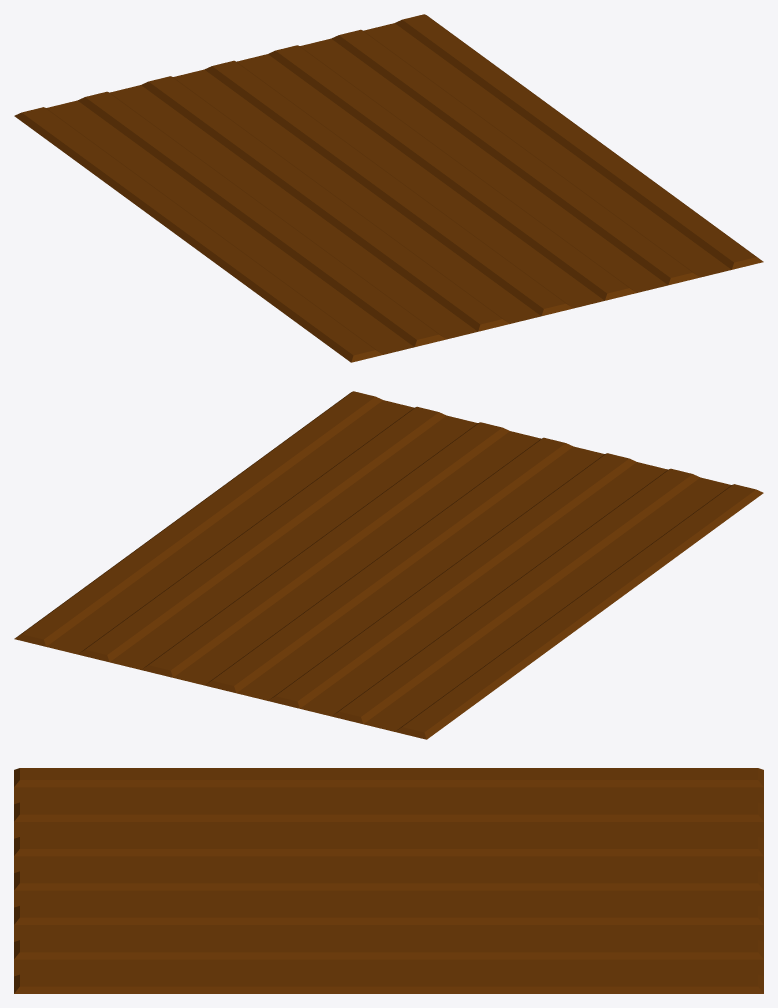
File: Prop_Farm_Plot_01.fbx
3 renders of one model, top to bottom at view 1: azimuth 30°, elevation 25°; view 2: azimuth 150°, elevation 25°; view 3: azimuth 270°, elevation 25°, orthographic. The views are drawn at different scales.
Parts seen in each view (by area): view 1: Prop_Farm_Plot_01; view 2: Prop_Farm_Plot_01; view 3: Prop_Farm_Plot_01.
Part boxes in pixels (x1=…): Prop_Farm_Plot_01: x1=14, y1=14, x2=763, y2=362; Prop_Farm_Plot_01: x1=14, y1=391, x2=763, y2=739; Prop_Farm_Plot_01: x1=14, y1=768, x2=763, y2=993.
Bounding box in the file's own units: 6746 × 65.12 × 9546.
